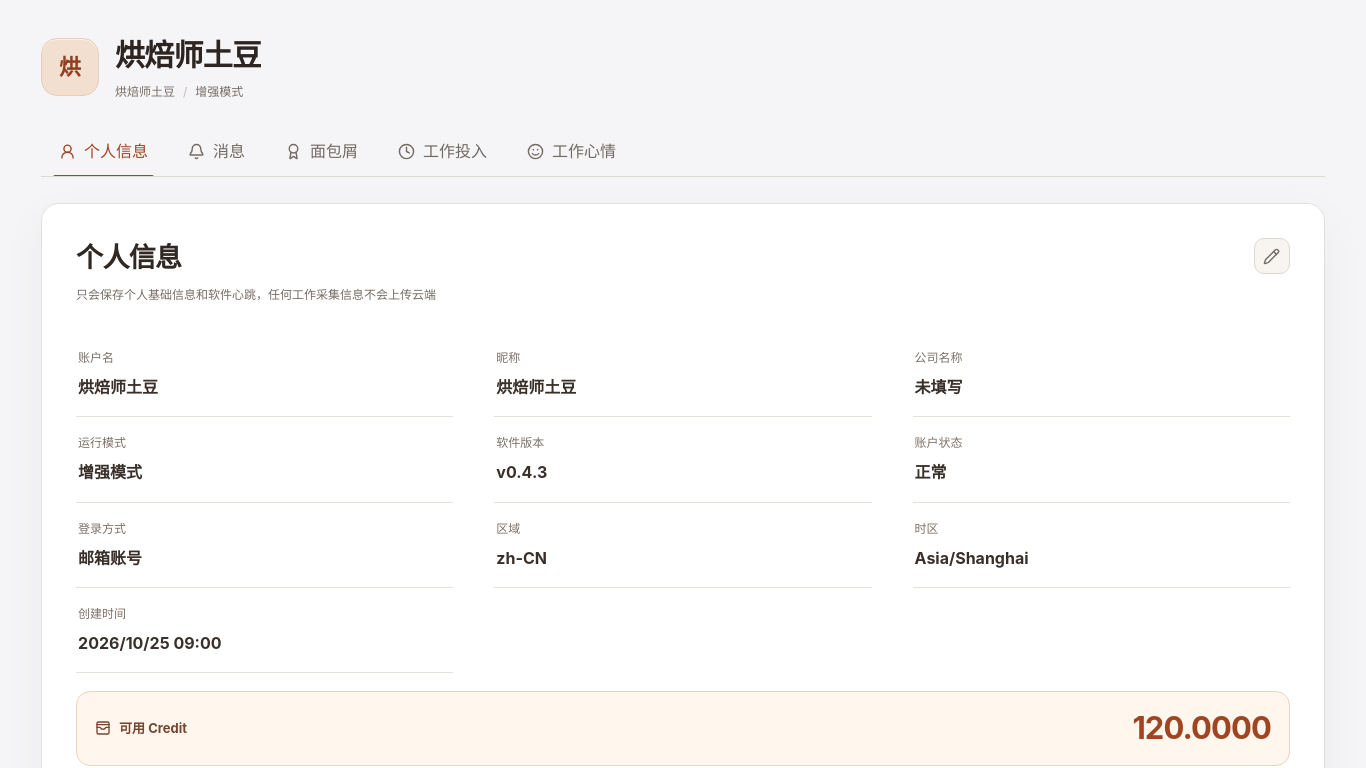
Test case: AuthPanel › 展示根据工作 IM 推测的心情，不提供手工工作标签
The width and height of the screenshot is (1366, 768).
Step 1. Click the tab "工作心情" → {"x": 572, "y": 151}, box [509,126,634,176]
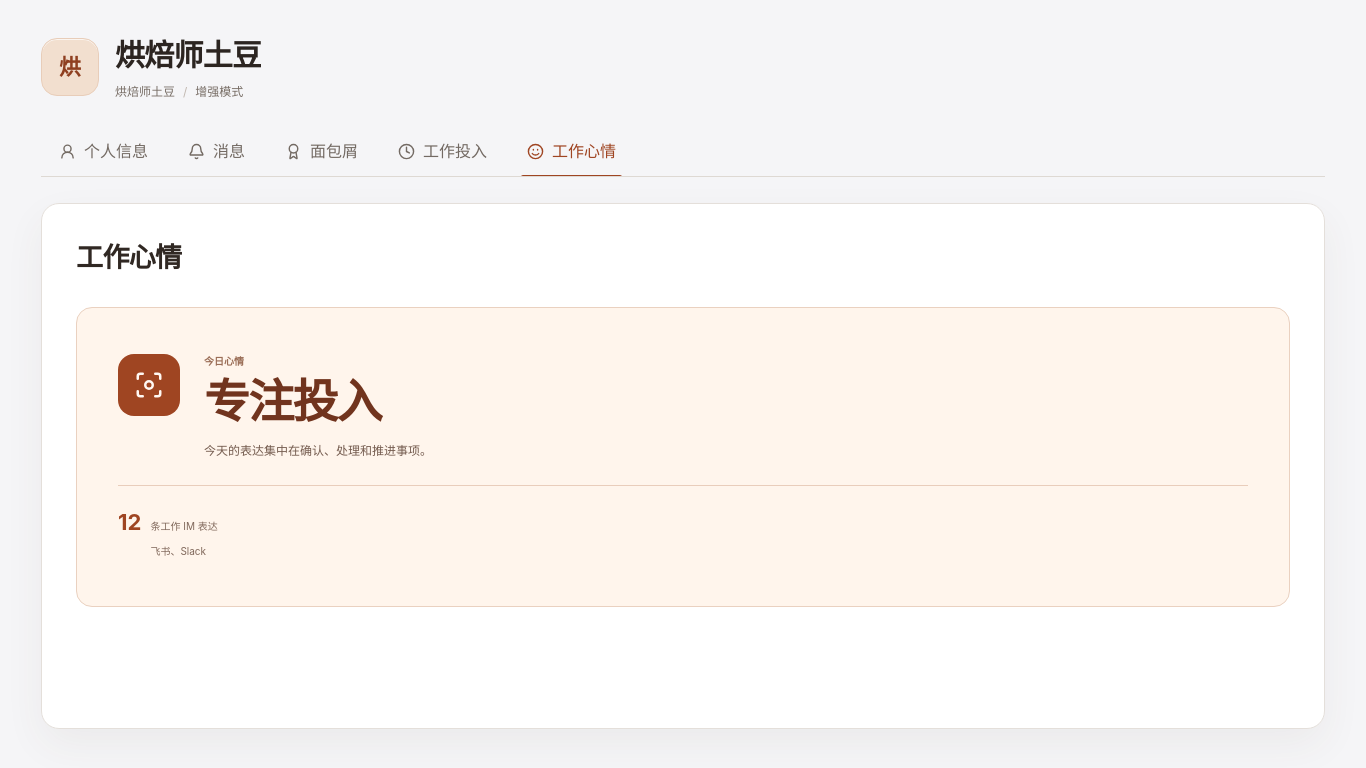
Expected: the text "专注投入" is shown, [204,373,381,429]
Expected: the text "条工作 IM 表达" is shown, [150,520,218,532]
Expected: the text "飞书、Slack" is shown, [150,545,206,557]
